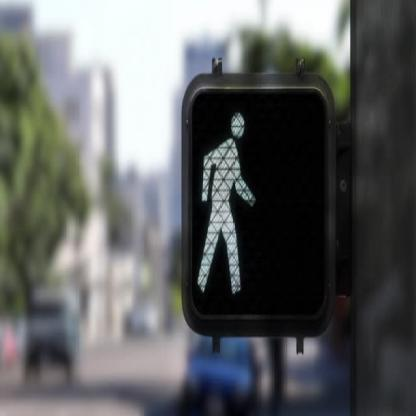Walk: (183, 75, 333, 332)
